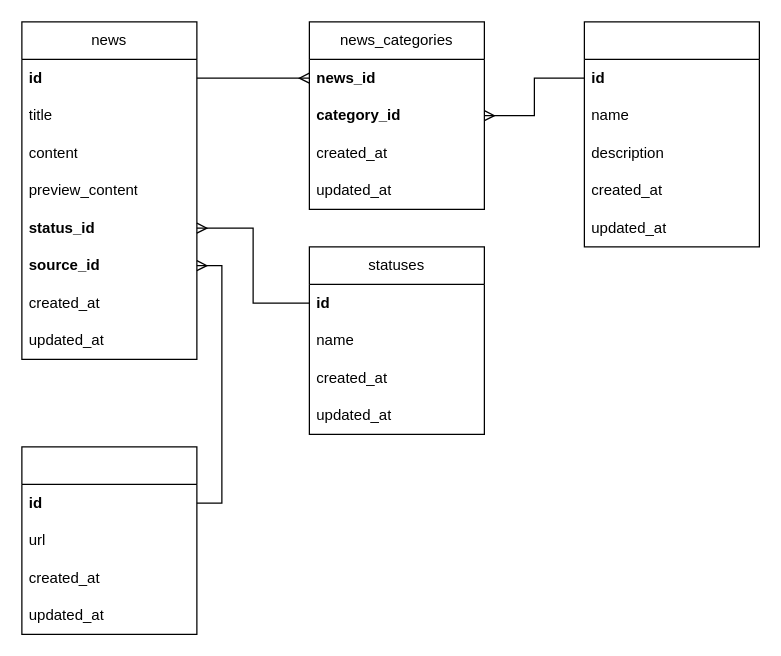
Image size: 781x656. Some labels were removed from this diagram. The shapes that lost their labels are listed below. From the top down, each one's box as (x1, y1, x2, y2) in pixels, then its label:
(583, 21, 759, 247): categories
(21, 446, 197, 634): sources
